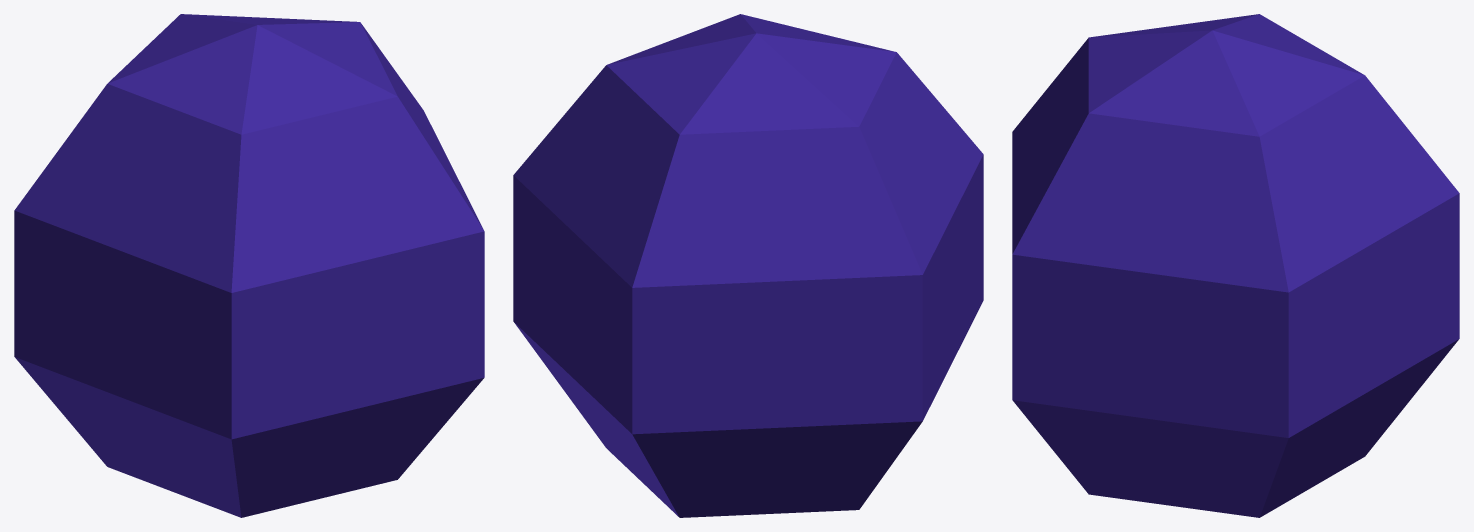
The model's file is bullet.fbx.
3 renders of one model, left to right at view 1: azimuth 30°, elevation 25°; view 2: azimuth 150°, elevation 25°; view 3: azimuth 270°, elevation 25°, orthographic.
Visible parts, largest first — view 1: 球; view 2: 球; view 3: 球.
Part boxes in pixels (<box>): 球: <box>14,14,484,517</box>; 球: <box>513,14,983,517</box>; 球: <box>1012,14,1459,517</box>.
Size of the model in its own units: 45.23 by 50 by 43.01.
